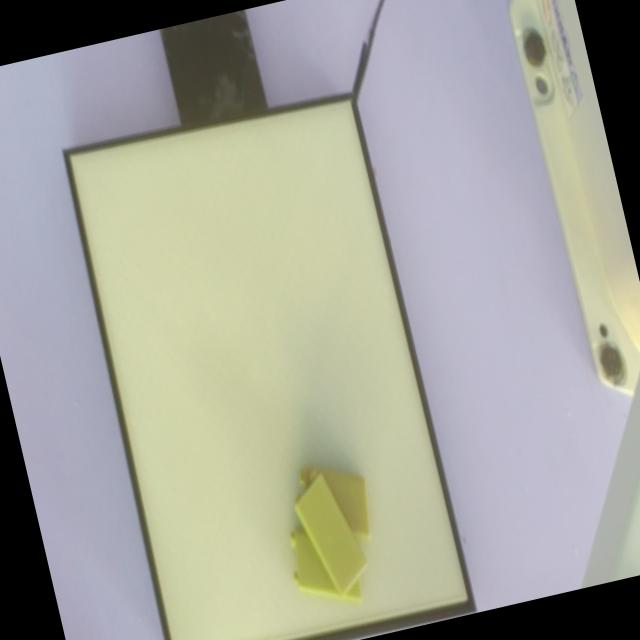bateria: (292, 466, 369, 595)
mesa: (62, 90, 477, 640)
